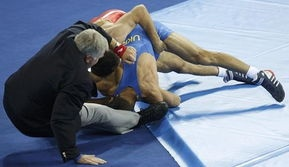falling: (0, 20, 136, 147)
